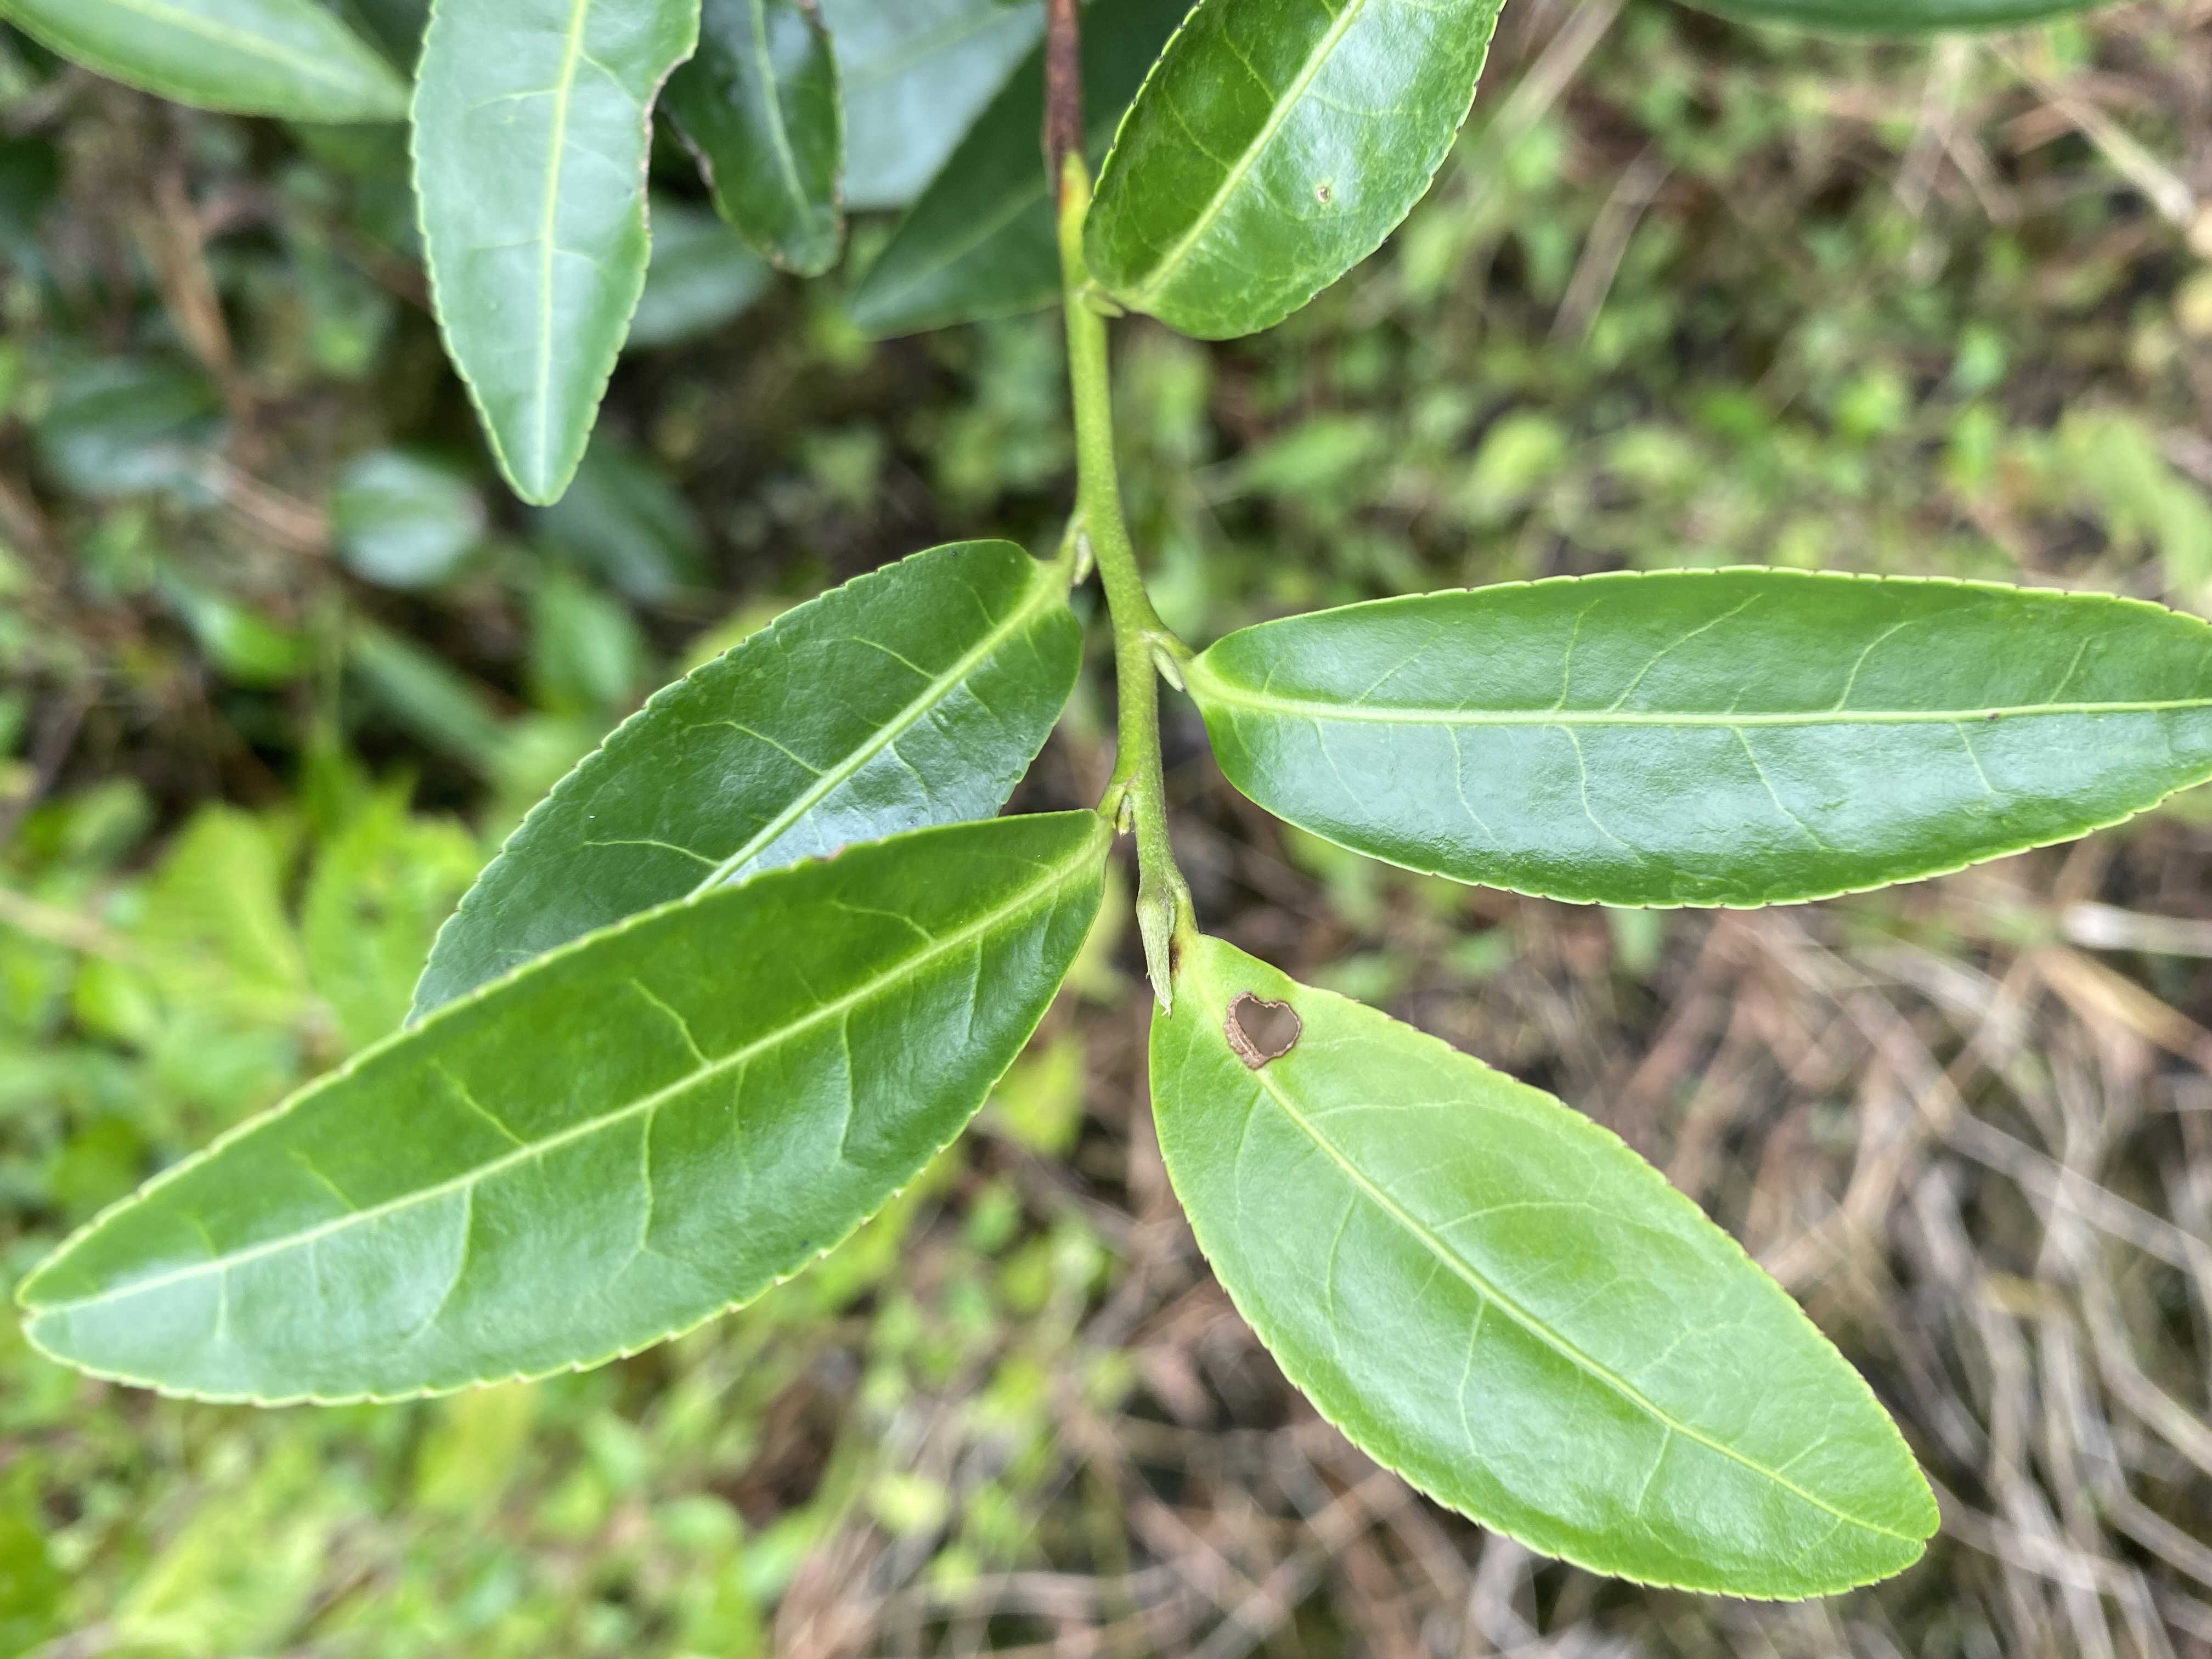chihuo_low: (1151, 931, 1940, 1605), (408, 3, 702, 507)
healthy: (16, 805, 1111, 1408), (1193, 565, 2209, 913), (404, 535, 1085, 1028), (1082, 2, 1505, 342)
